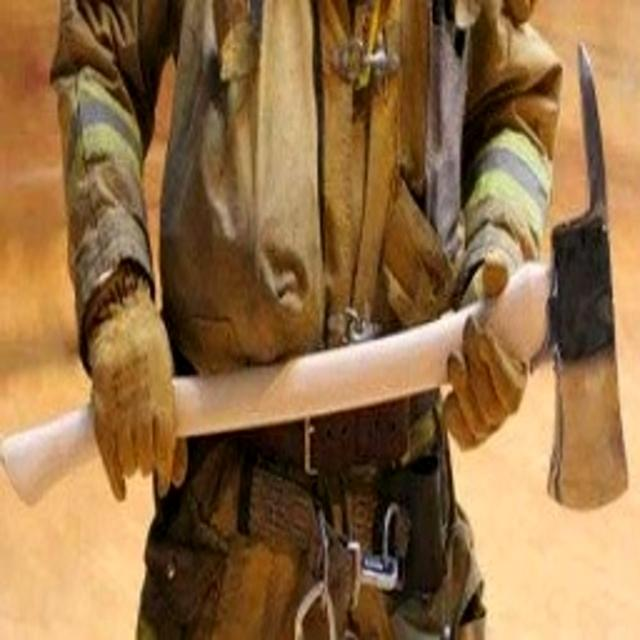ax: (0, 41, 636, 518)
